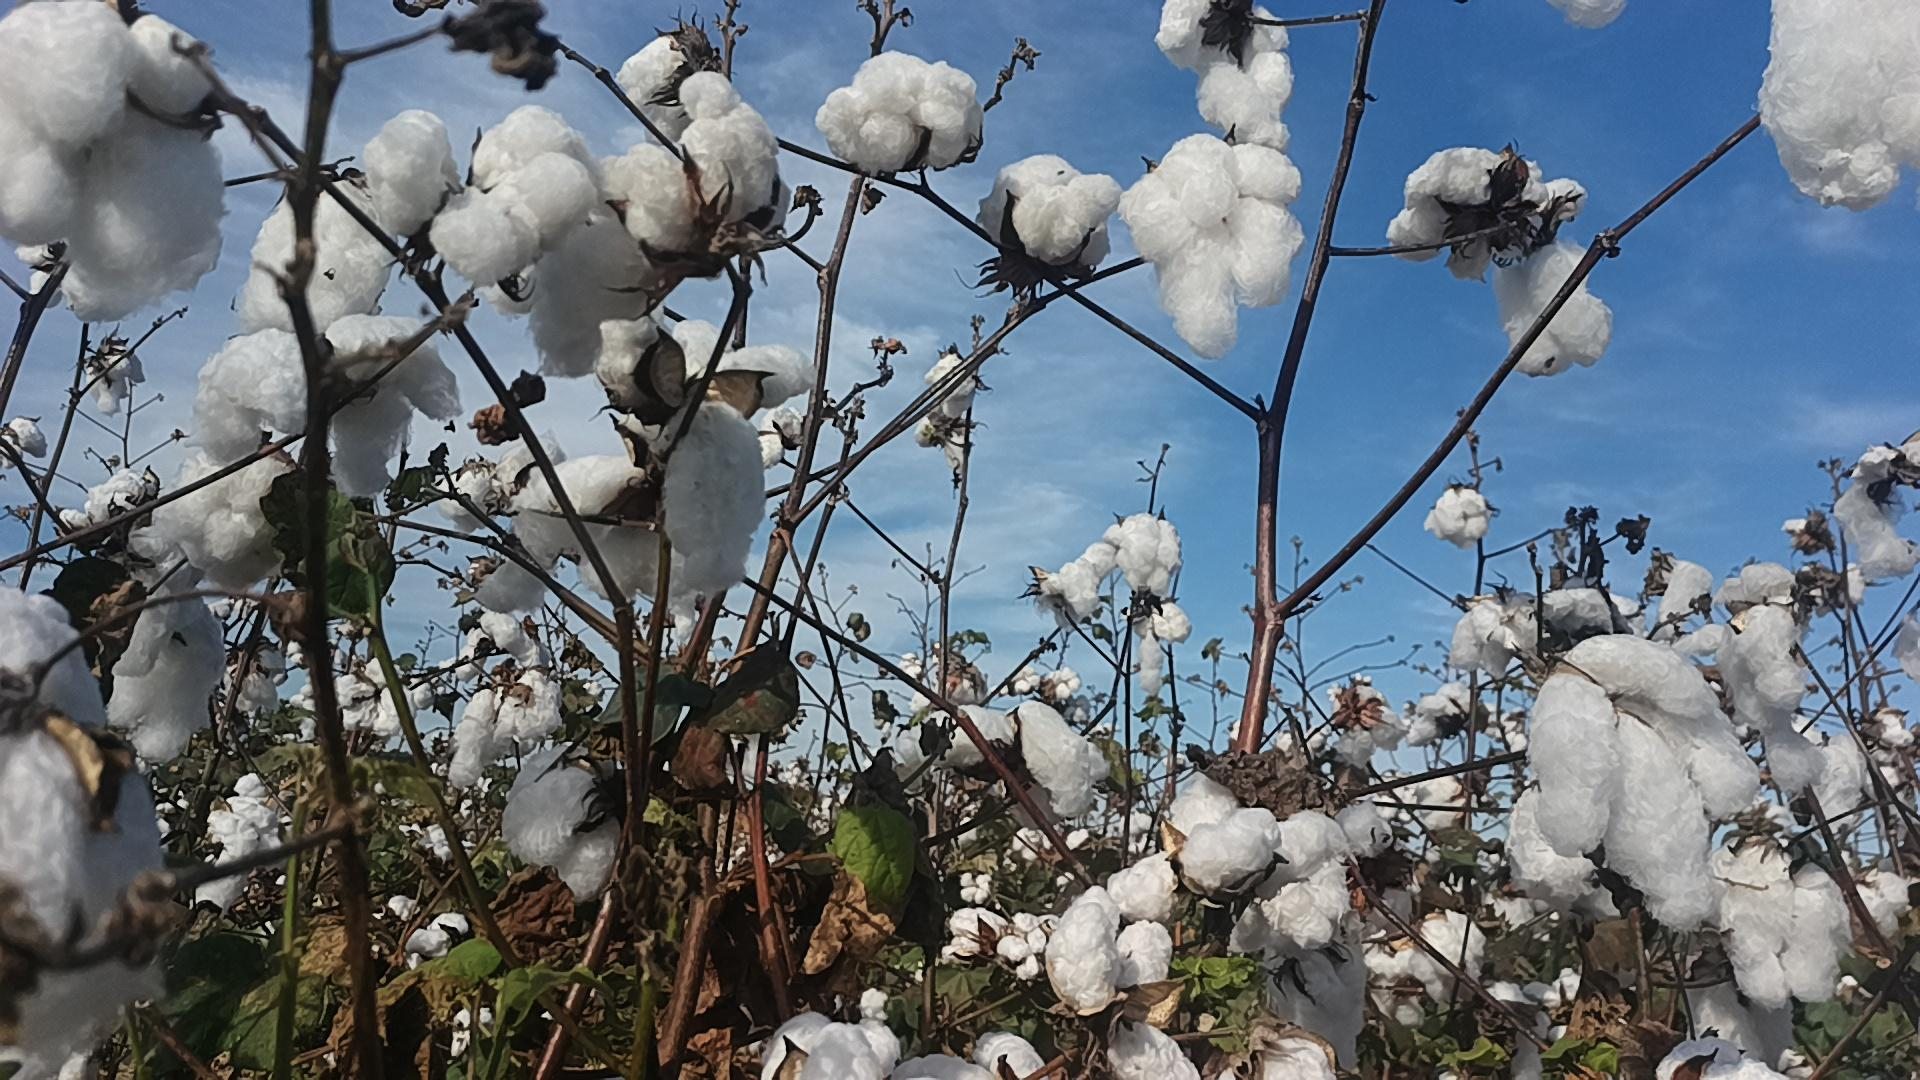cotton_ready: (531, 75, 787, 381), (0, 0, 228, 315), (1534, 630, 1762, 928), (195, 316, 464, 498), (1122, 136, 1305, 357), (1754, 0, 1920, 206), (0, 720, 161, 931), (431, 107, 597, 284), (518, 455, 704, 599), (241, 170, 400, 331), (1383, 142, 1589, 261), (105, 578, 225, 765), (814, 51, 988, 178), (1725, 841, 1855, 1010), (662, 396, 766, 591), (136, 446, 291, 576), (1050, 856, 1176, 1014), (498, 749, 624, 902), (1154, 0, 1298, 133), (1230, 807, 1356, 953), (975, 152, 1122, 270), (1498, 239, 1615, 373), (447, 671, 571, 789), (0, 578, 102, 713), (1832, 443, 1920, 587), (611, 28, 721, 141), (360, 107, 455, 239), (676, 316, 814, 404), (1018, 700, 1110, 818), (1172, 806, 1280, 902), (1367, 915, 1485, 1004), (595, 310, 687, 422), (1721, 605, 1805, 725), (765, 1011, 901, 1080), (891, 703, 1013, 771), (898, 1030, 1052, 1080), (1445, 597, 1544, 675), (1102, 514, 1182, 595), (1042, 541, 1118, 621), (1110, 1018, 1209, 1080), (1659, 1034, 1788, 1080), (1218, 1034, 1344, 1080), (1424, 489, 1491, 547)
